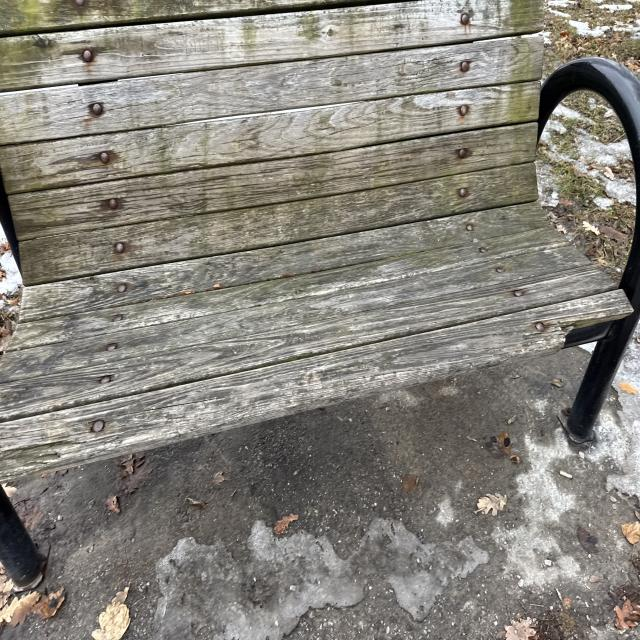Bench: (6, 6, 640, 476)
